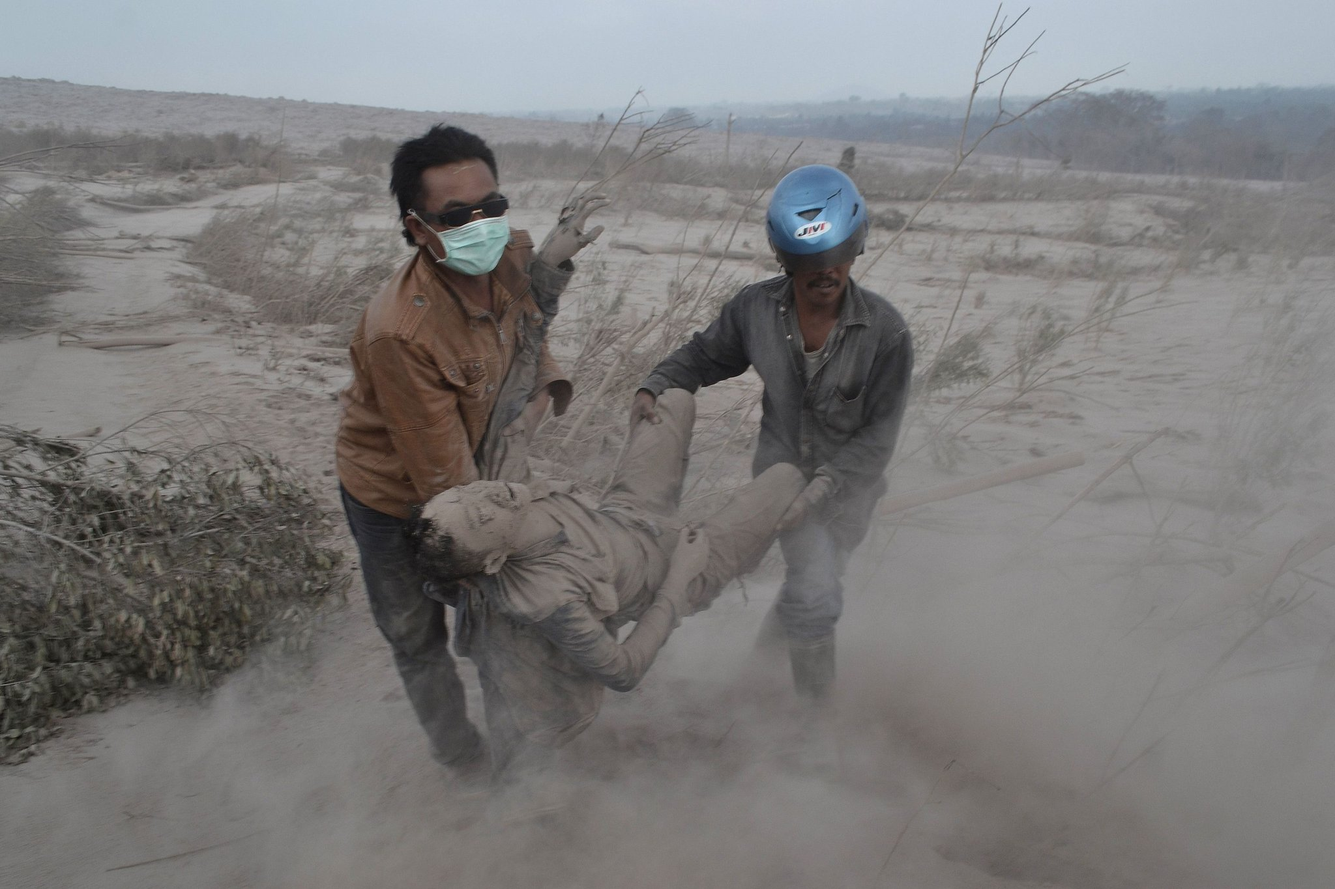BukanKorban: (625, 162, 916, 725), (334, 126, 577, 795)
Korban: (413, 383, 807, 693)
